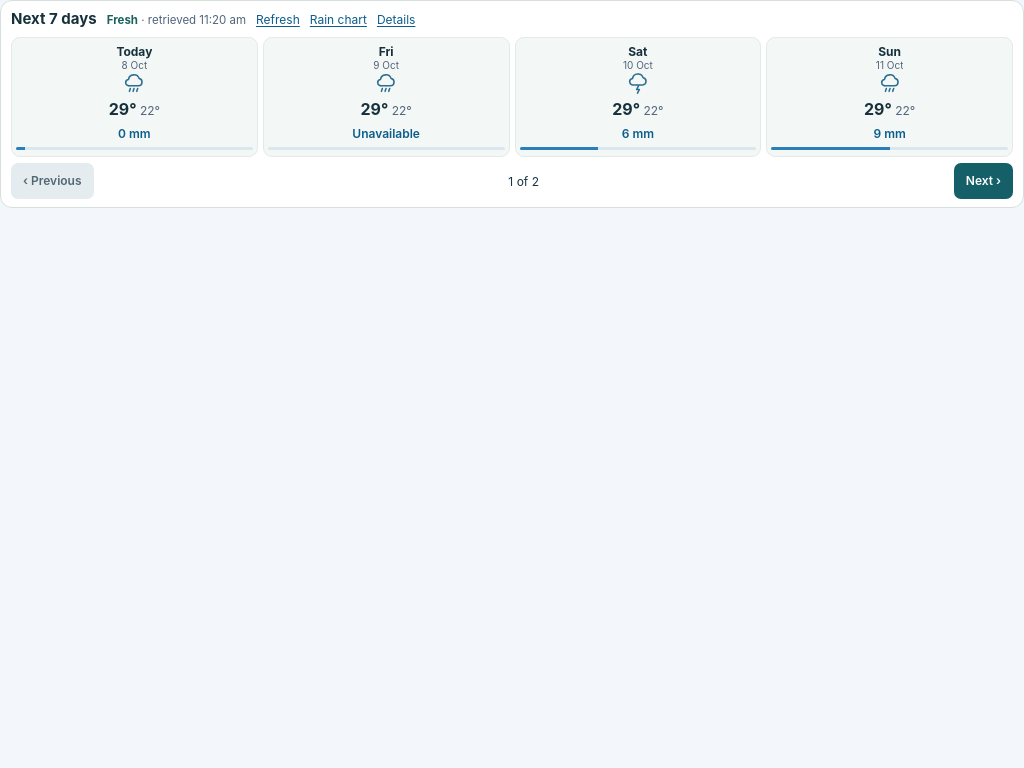
Test: details name the sources and the point, with locality provenance links; the rain chart opens in a popup
The image size is (1024, 768).
Click the button "Details". click: (396, 20)
box: [377, 12, 415, 27]
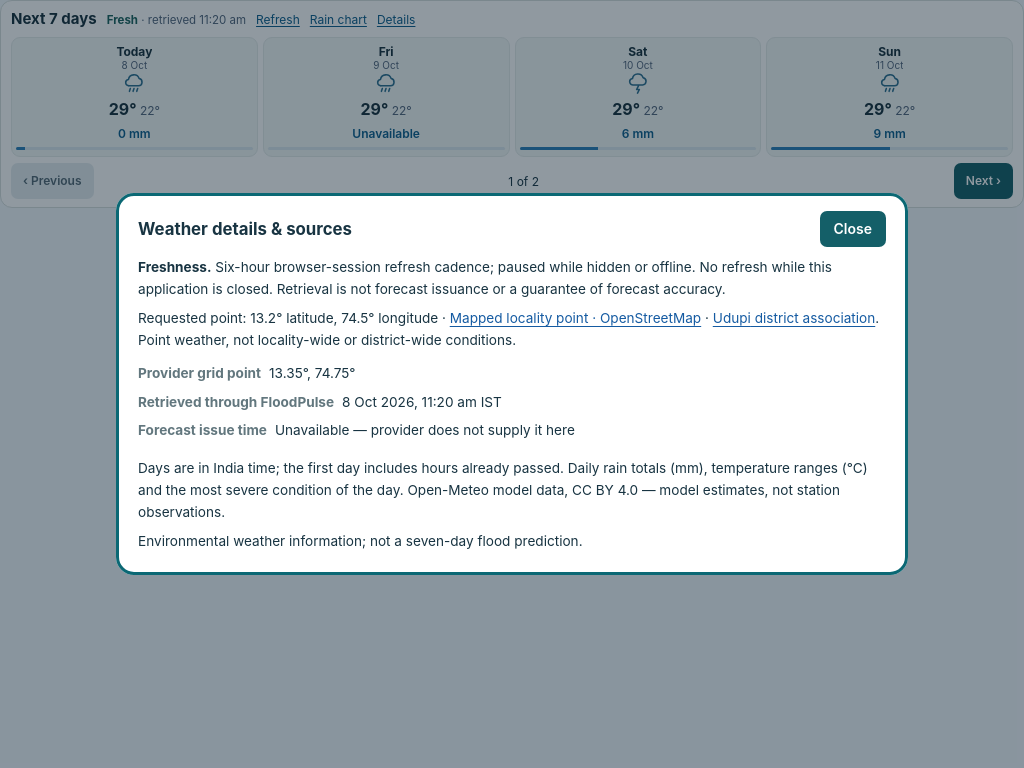
Check: the dialog "Weather details & sources" shows "Requested point: 13.2° latitude, 74.5° longitude", box [122, 199, 902, 569]
Check: the dialog "Weather details & sources" shows "13.35°, 74.75°", box [269, 365, 356, 381]
Click the button "Close". click: (853, 229)
box: [820, 211, 886, 247]
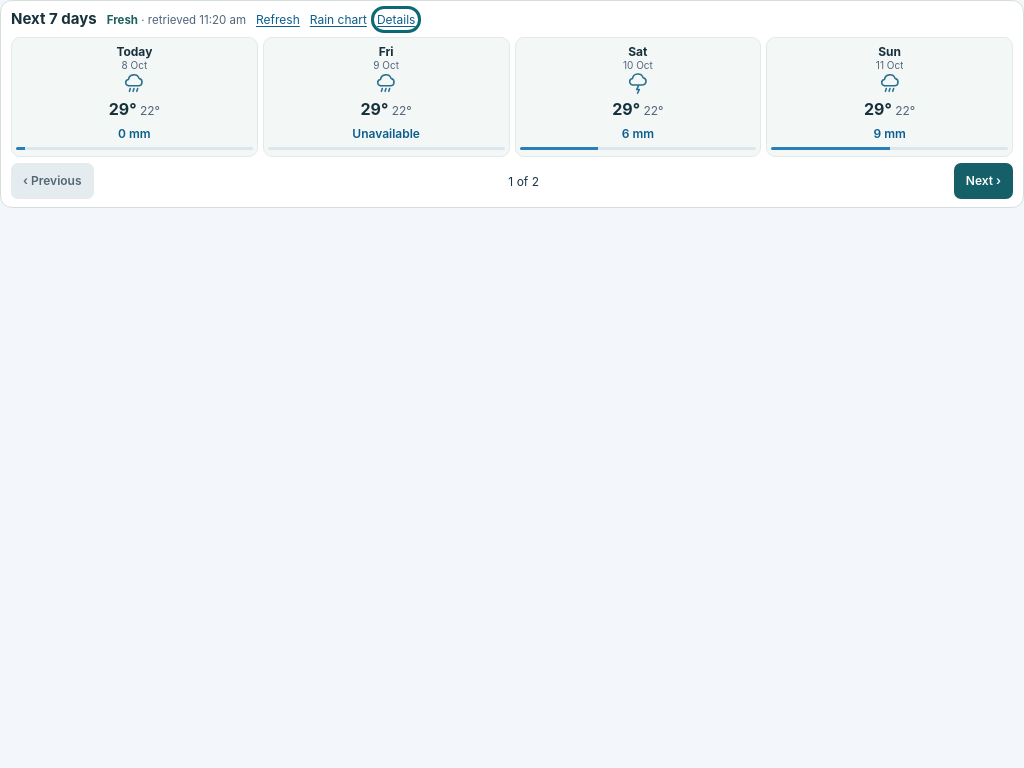
Click the button "Rain chart". click: (338, 20)
box: [310, 12, 367, 27]
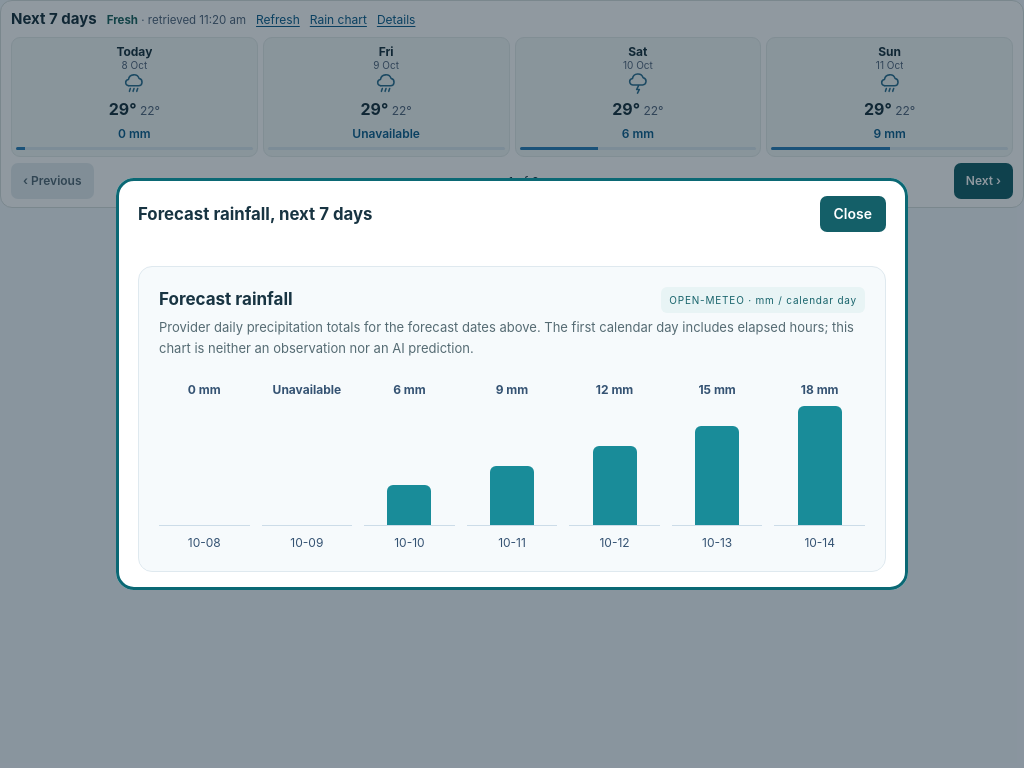
Check: the list named "Forecast daily precipitation chart" is shown, box [159, 381, 865, 552]
